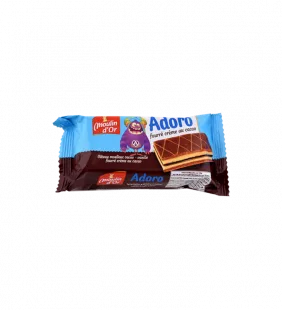ADORO MOULIN D'OR: (44, 108, 236, 203)
